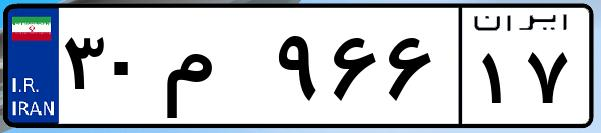0: (110, 28, 158, 98)
1: (475, 38, 525, 113)
3: (57, 26, 110, 100)
6: (385, 28, 445, 110), (330, 28, 385, 110)
7: (525, 38, 570, 115)
9: (270, 28, 330, 110)
م: (158, 20, 270, 120)
